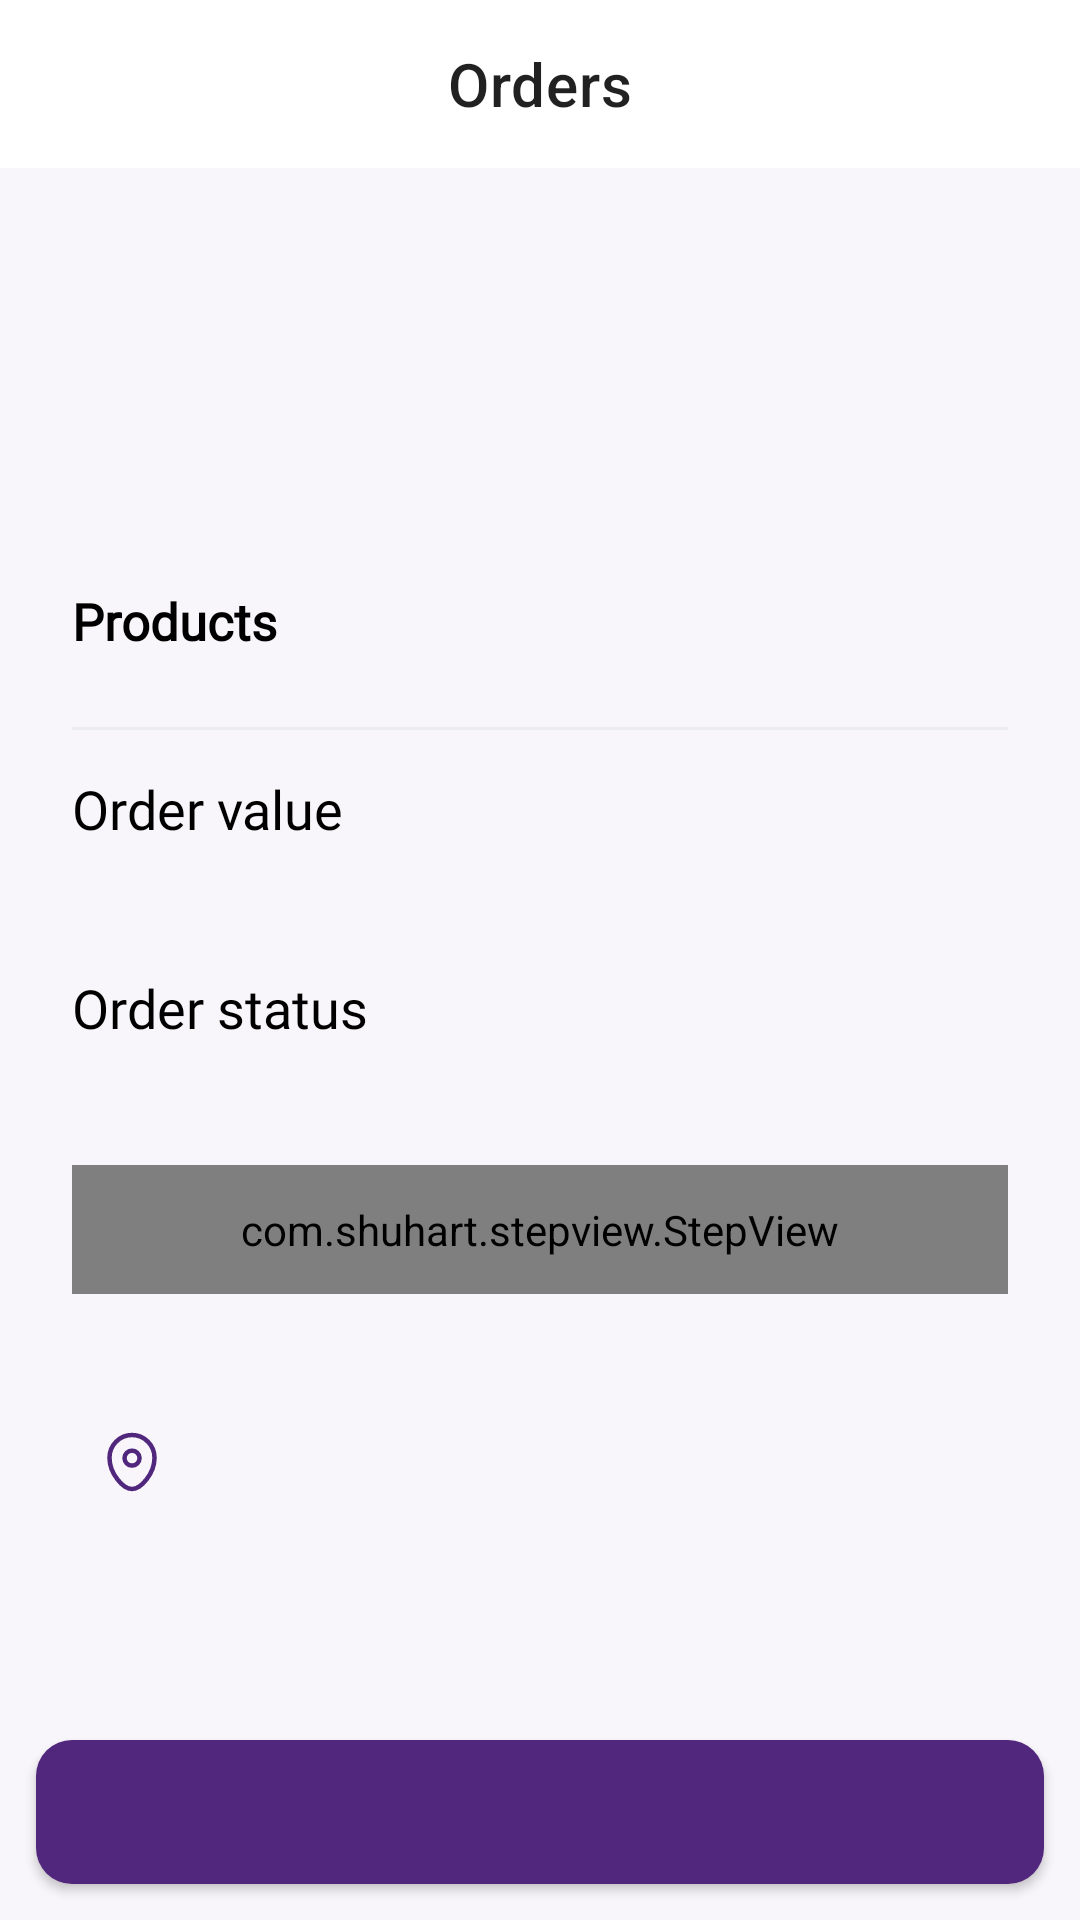

Icons on this 1080w x 1920h Android screen, each with its box as [x1, y1, x2, y2]:
location: [107, 1432, 157, 1492]
